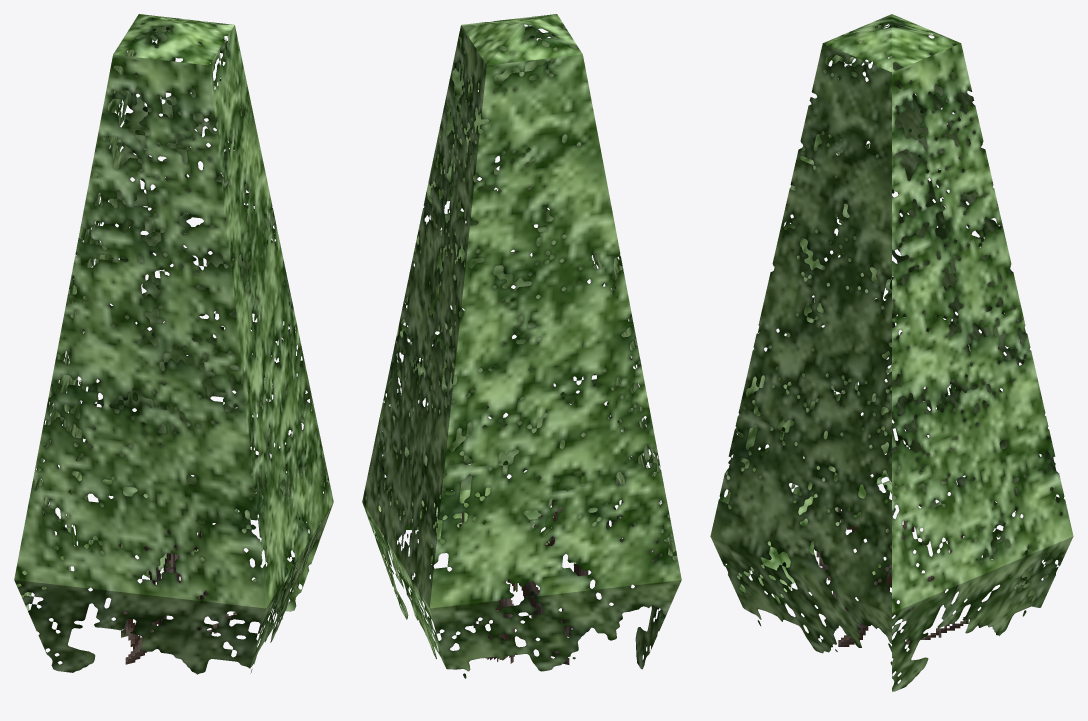
The model's file is bush_end_tall_roots_summer.fbx.
3 views of the same model, side by side, from view 1: azimuth 30°, elevation 25°; view 2: azimuth 150°, elevation 25°; view 3: azimuth 270°, elevation 25° (orthographic).
Visible parts, largest first — view 1: bush_end_tall_roots_summer; view 2: bush_end_tall_roots_summer; view 3: bush_end_tall_roots_summer.
Boxes of the visible parts, box(x1,y1,x2,y2) form: bush_end_tall_roots_summer: box(14, 14, 333, 674); bush_end_tall_roots_summer: box(362, 14, 681, 678); bush_end_tall_roots_summer: box(710, 14, 1073, 691).
Bounding box in the file's own units: 139 × 263 × 139.
Materials: 2 (2 with a texture image).
